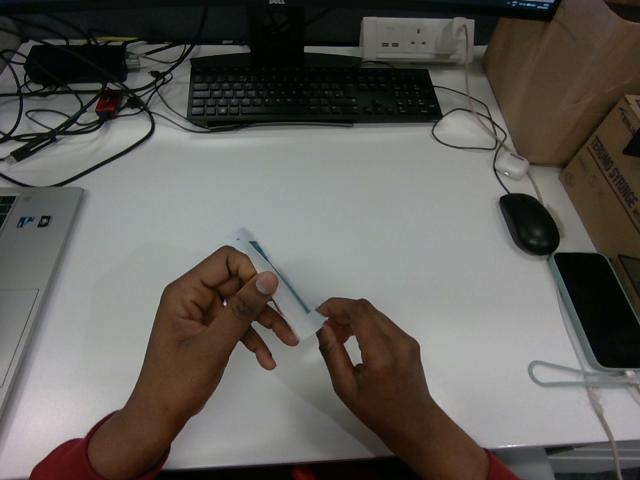gallipot: (227, 229, 325, 339)
